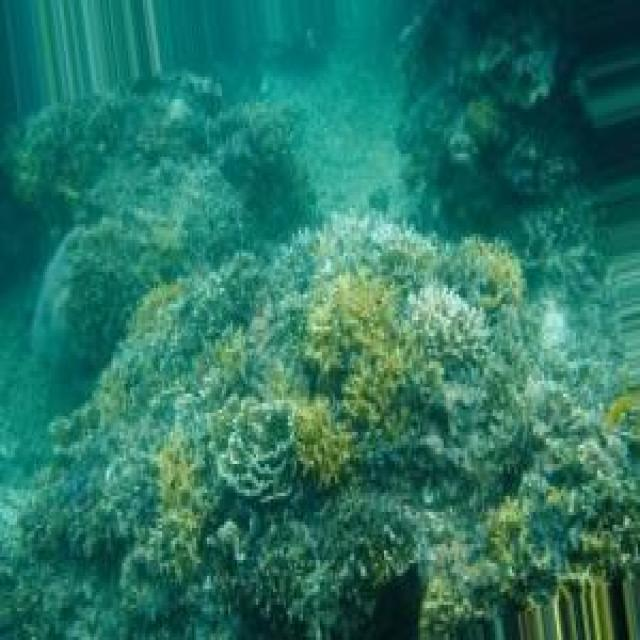healthy coral: (302, 274, 409, 439), (151, 429, 206, 588), (449, 238, 522, 312), (294, 398, 354, 488), (486, 497, 532, 603)
